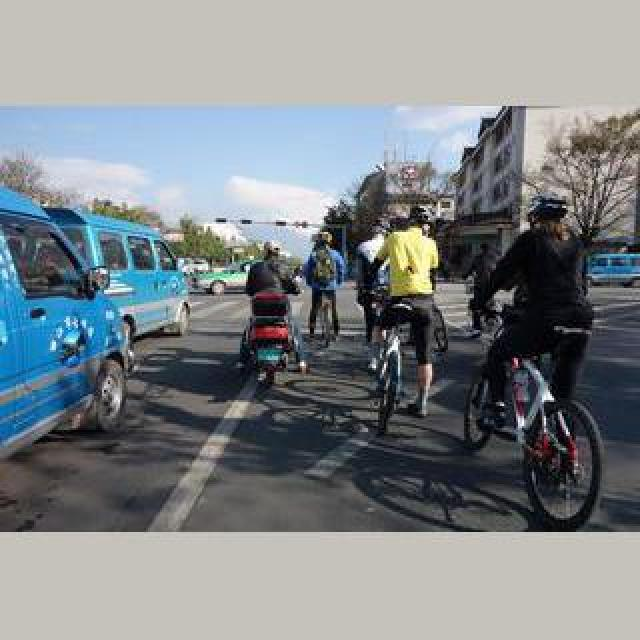Bus-Bike: (584, 250, 640, 288), (194, 266, 248, 296)
Emergency Vehicles-Bike: (240, 300, 298, 394)
MC-Bike: (474, 194, 594, 430), (362, 210, 448, 412), (242, 240, 298, 366), (300, 232, 346, 336)
Person: (464, 322, 606, 530), (370, 304, 420, 438)
Truck-Bike: (0, 192, 138, 442), (38, 208, 192, 348)
